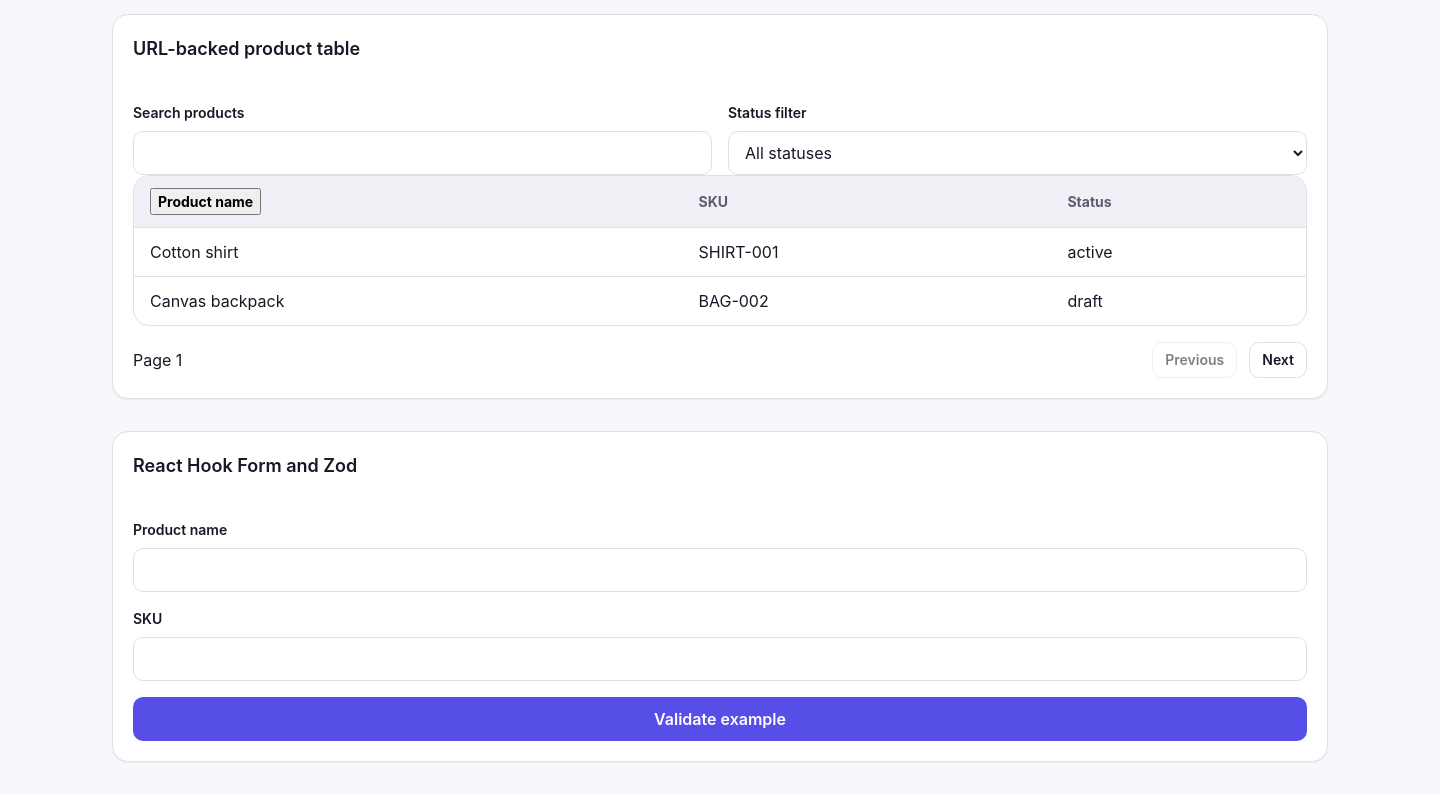
Test: foundation patterns example › surfaces Zod and API field errors without losing the form message
(page scrolled)
Click the button "Validate example" at {"x": 720, "y": 719}, box [133, 697, 1307, 741]
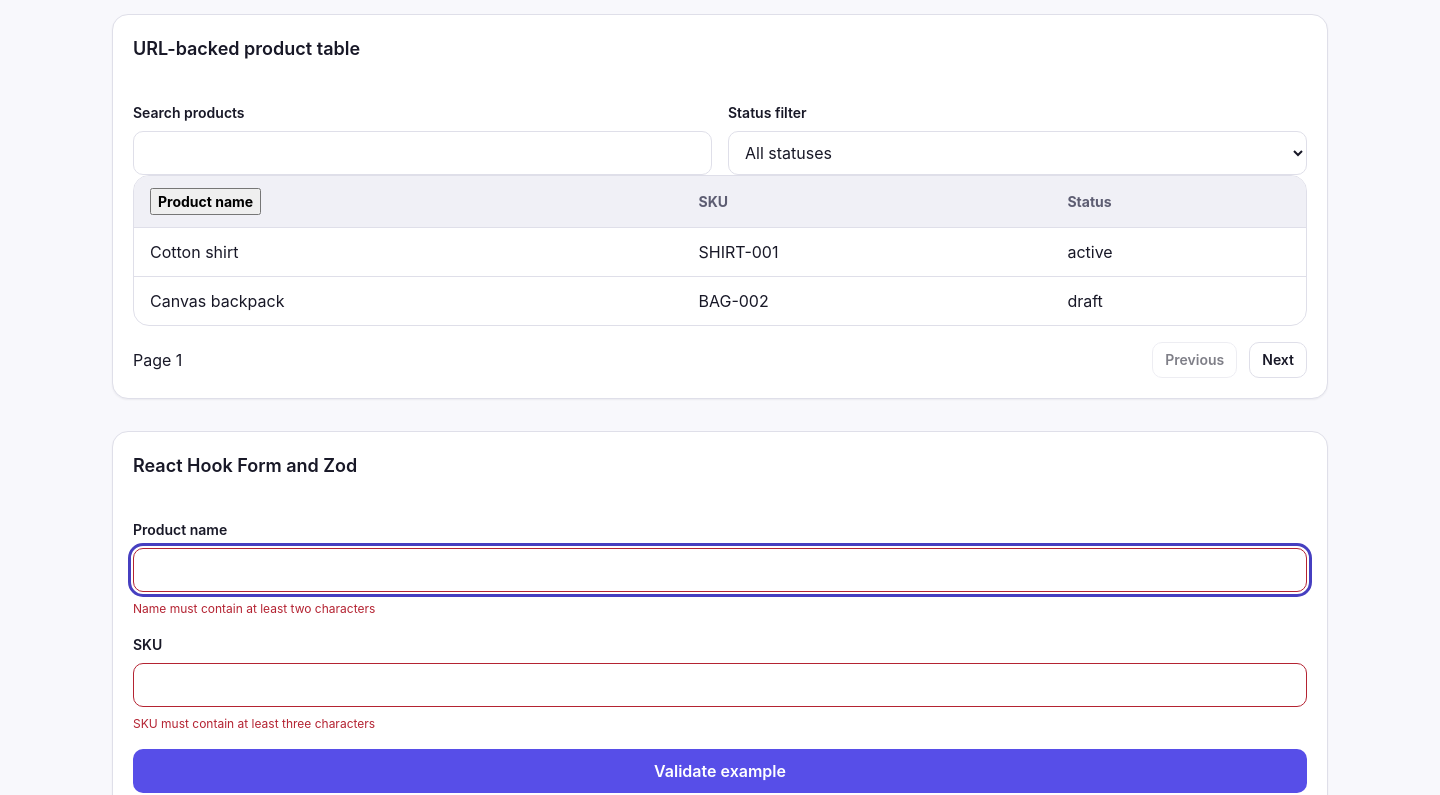
expect the text "Name must contain at least two characters" is shown: met, box [133, 601, 375, 616]
Type "Example product" into the field labelled "Product name" at {"x": 720, "y": 570}, box [133, 548, 1307, 592]
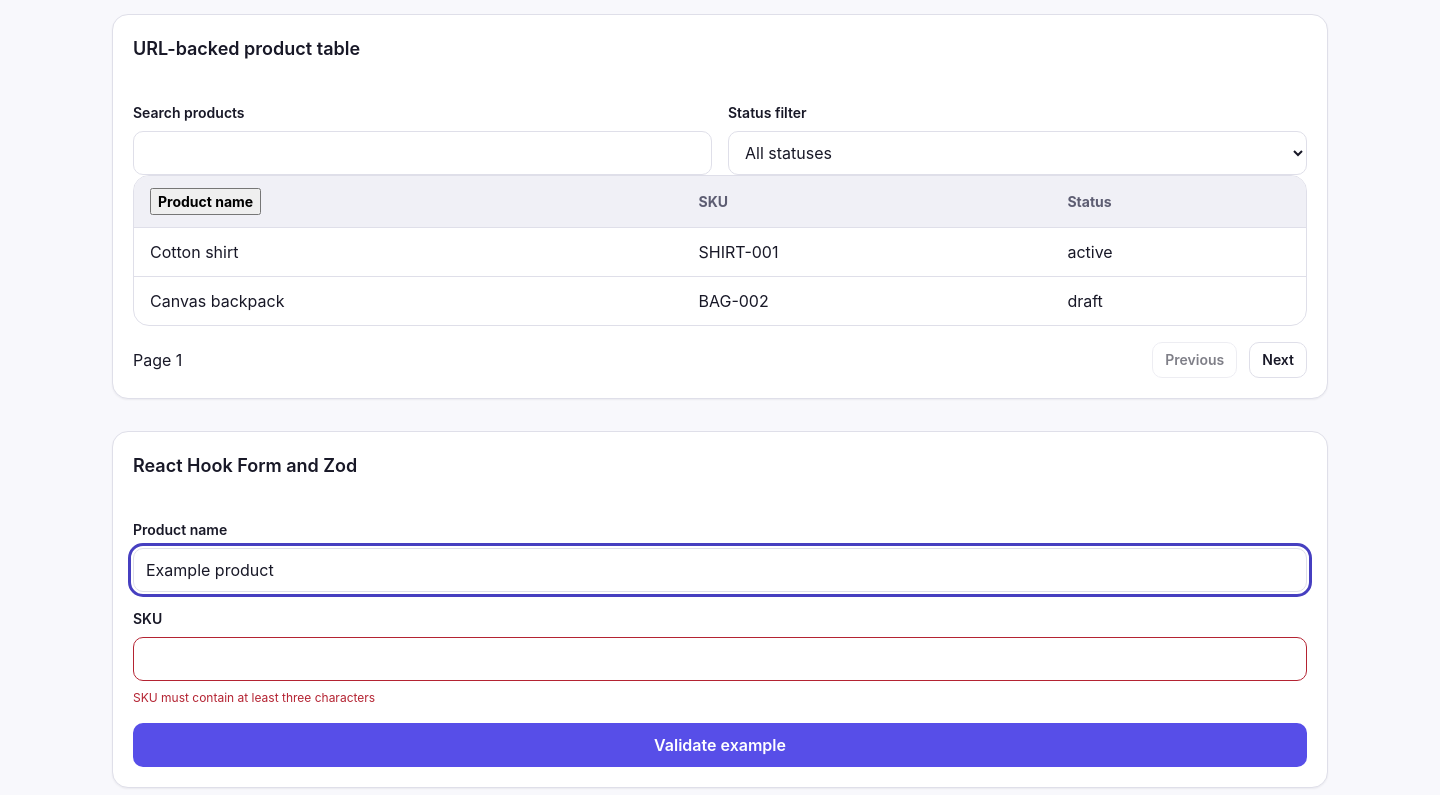
Type "DUPLICATE" into the field labelled "SKU" at {"x": 720, "y": 659}, box [133, 637, 1307, 681]
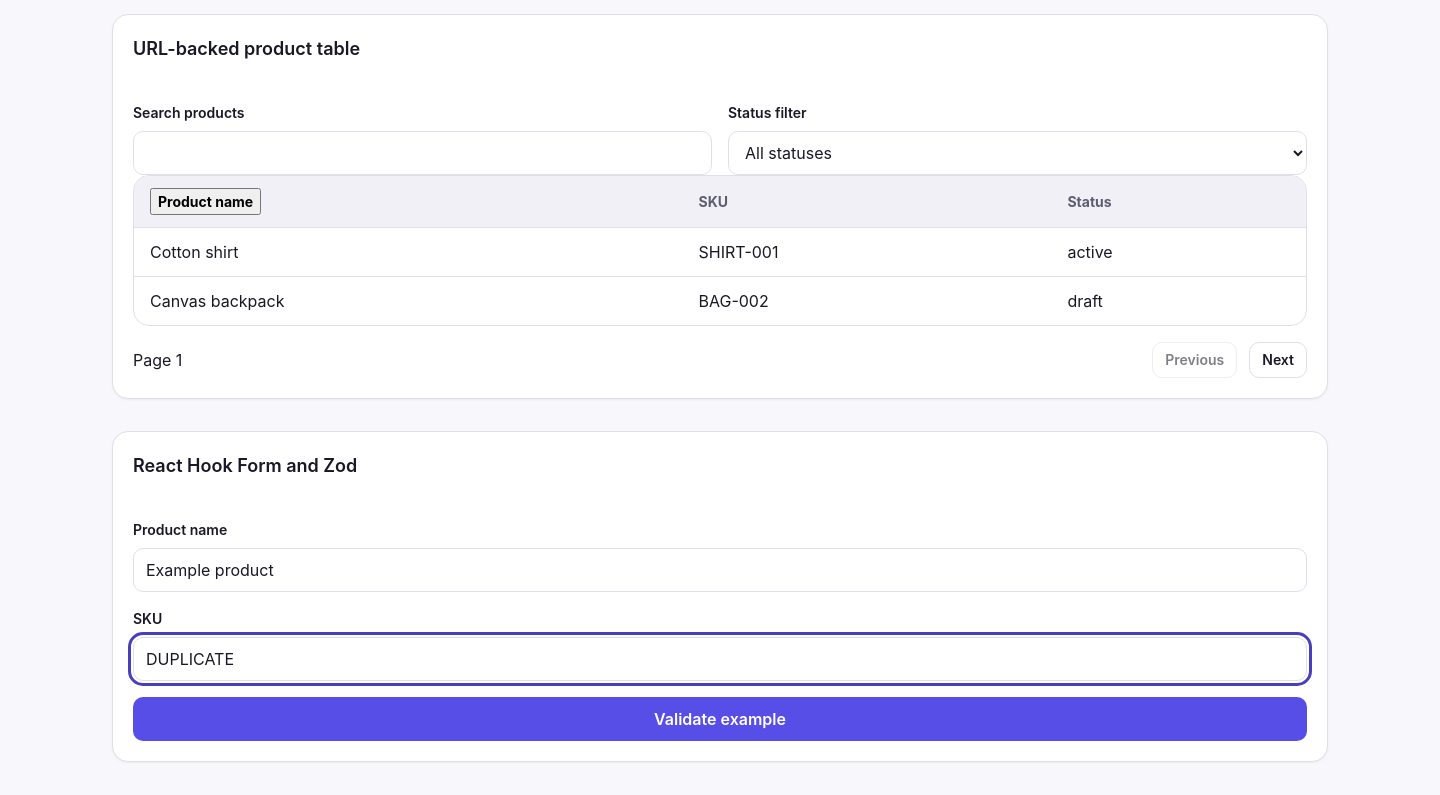
Click the button "Validate example" at {"x": 720, "y": 719}, box [133, 697, 1307, 741]
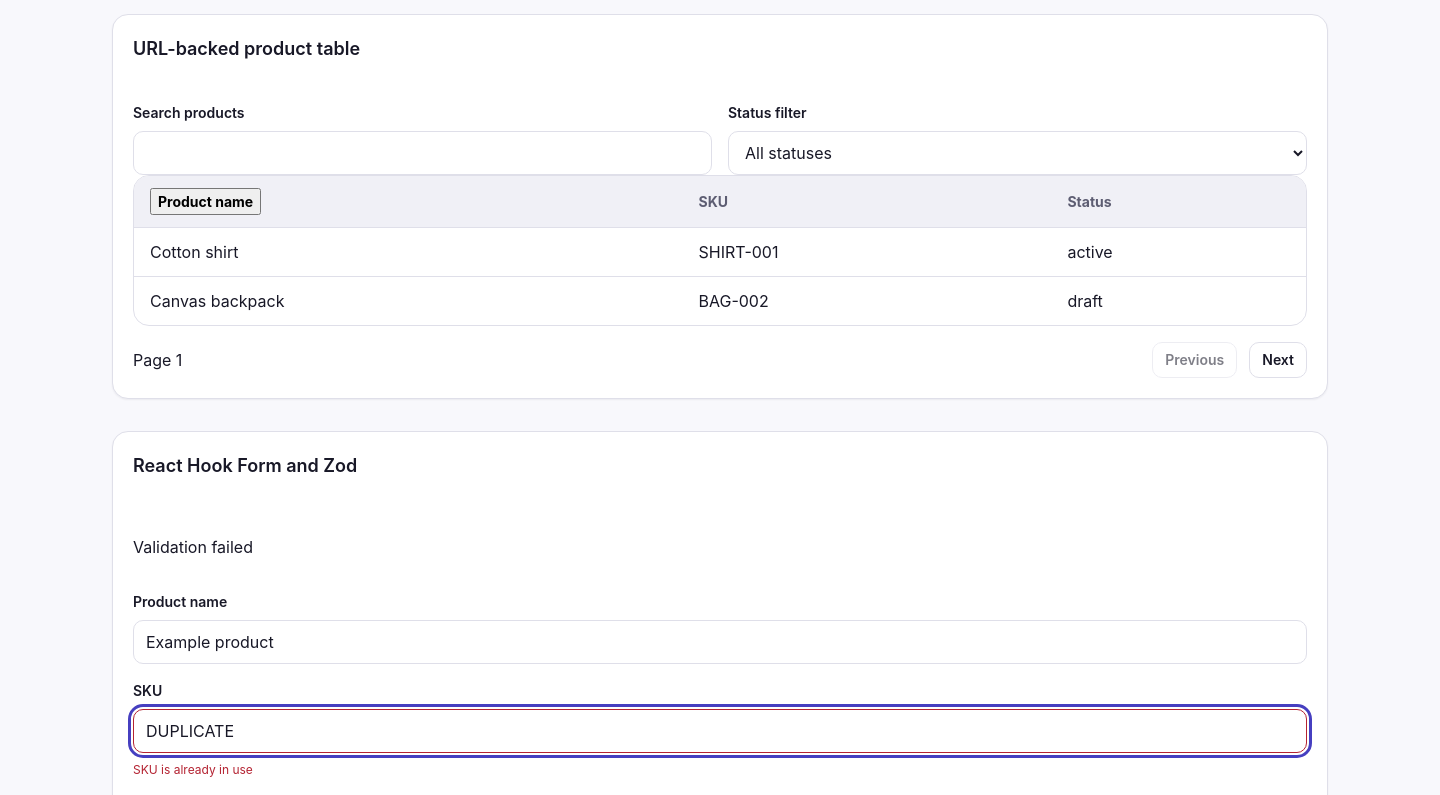
expect the text "SKU is already in use" is shown: met, box [133, 762, 253, 777]
expect the message reads "Validation failed": met, box [133, 537, 253, 557]
